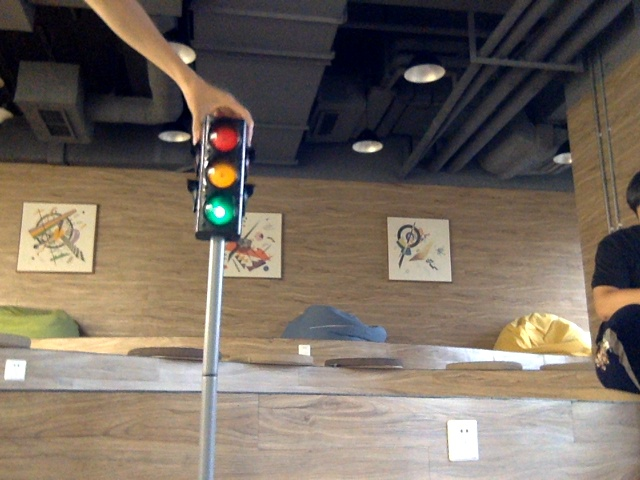green: (204, 125, 237, 228)
